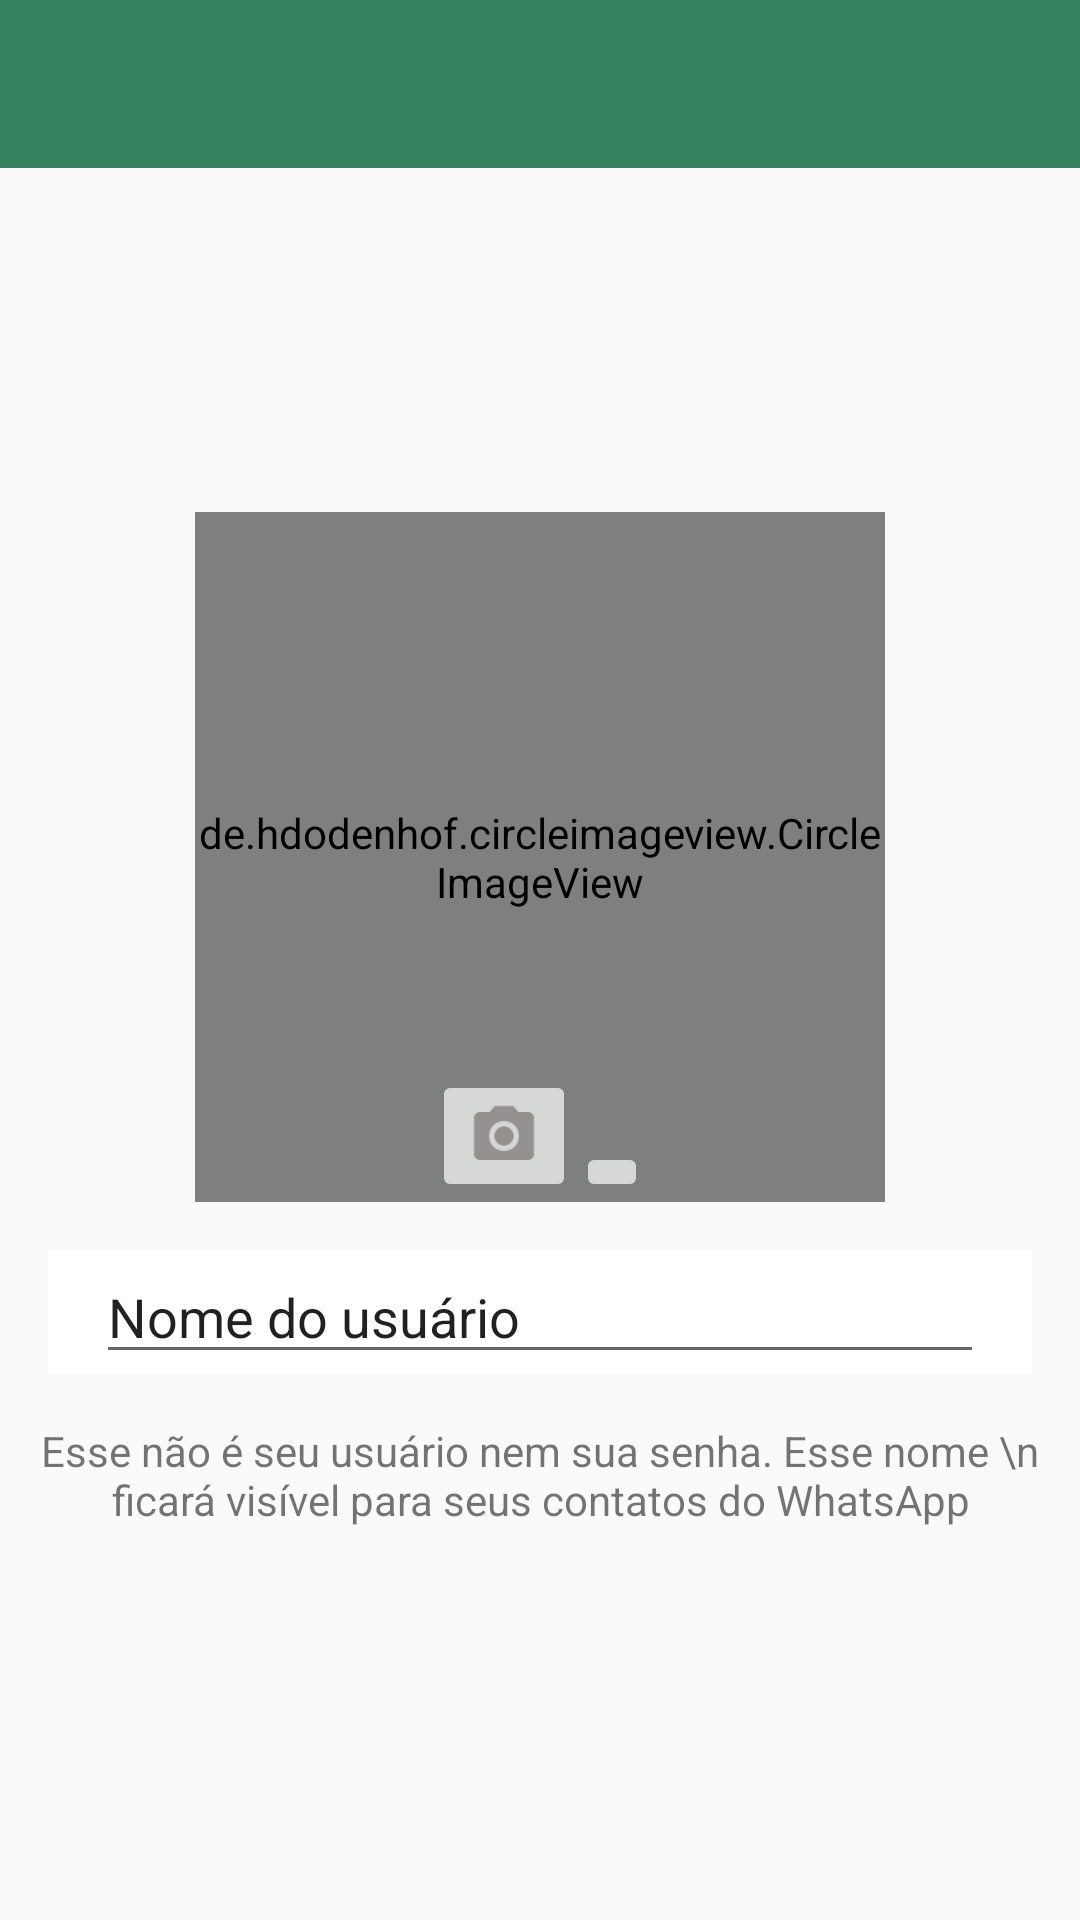

Locate icon controls on the screen. Image size 1080×1920, boxes as bbox=[x1, y1, x2, y2].
camera: bbox=[444, 1088, 564, 1184]
